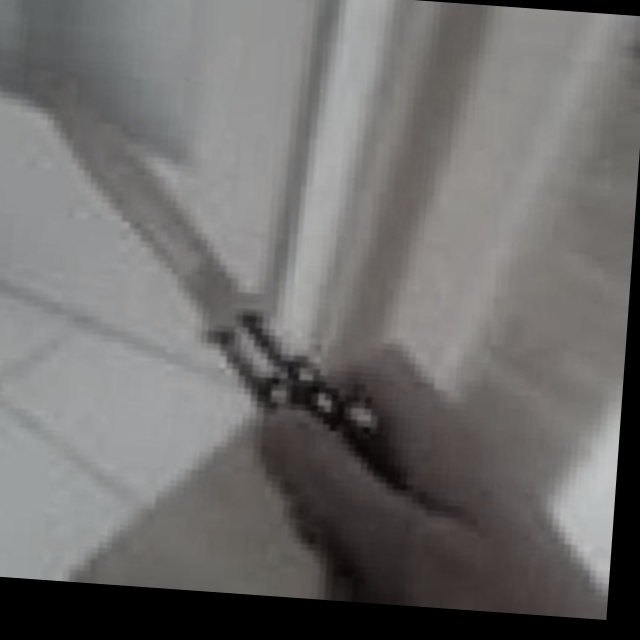Sharp-Object: (14, 75, 435, 496)
